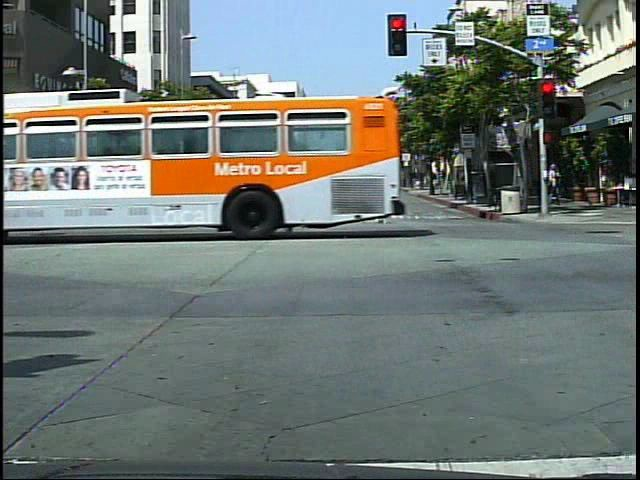person: (267, 165, 299, 229), (361, 166, 391, 230), (163, 168, 192, 234), (547, 160, 569, 208)
